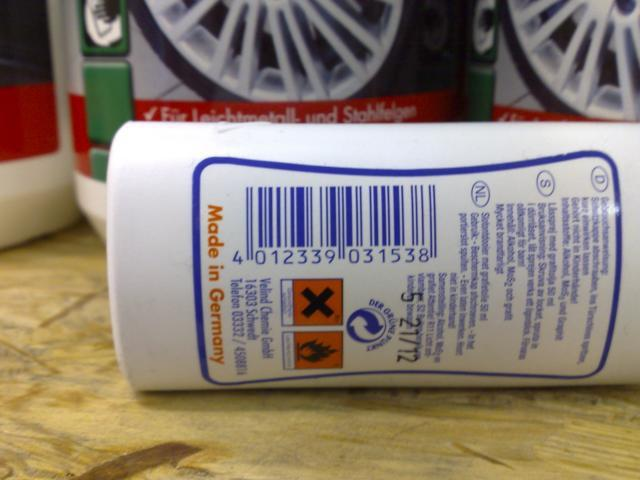Barcode: (228, 175, 451, 271)
